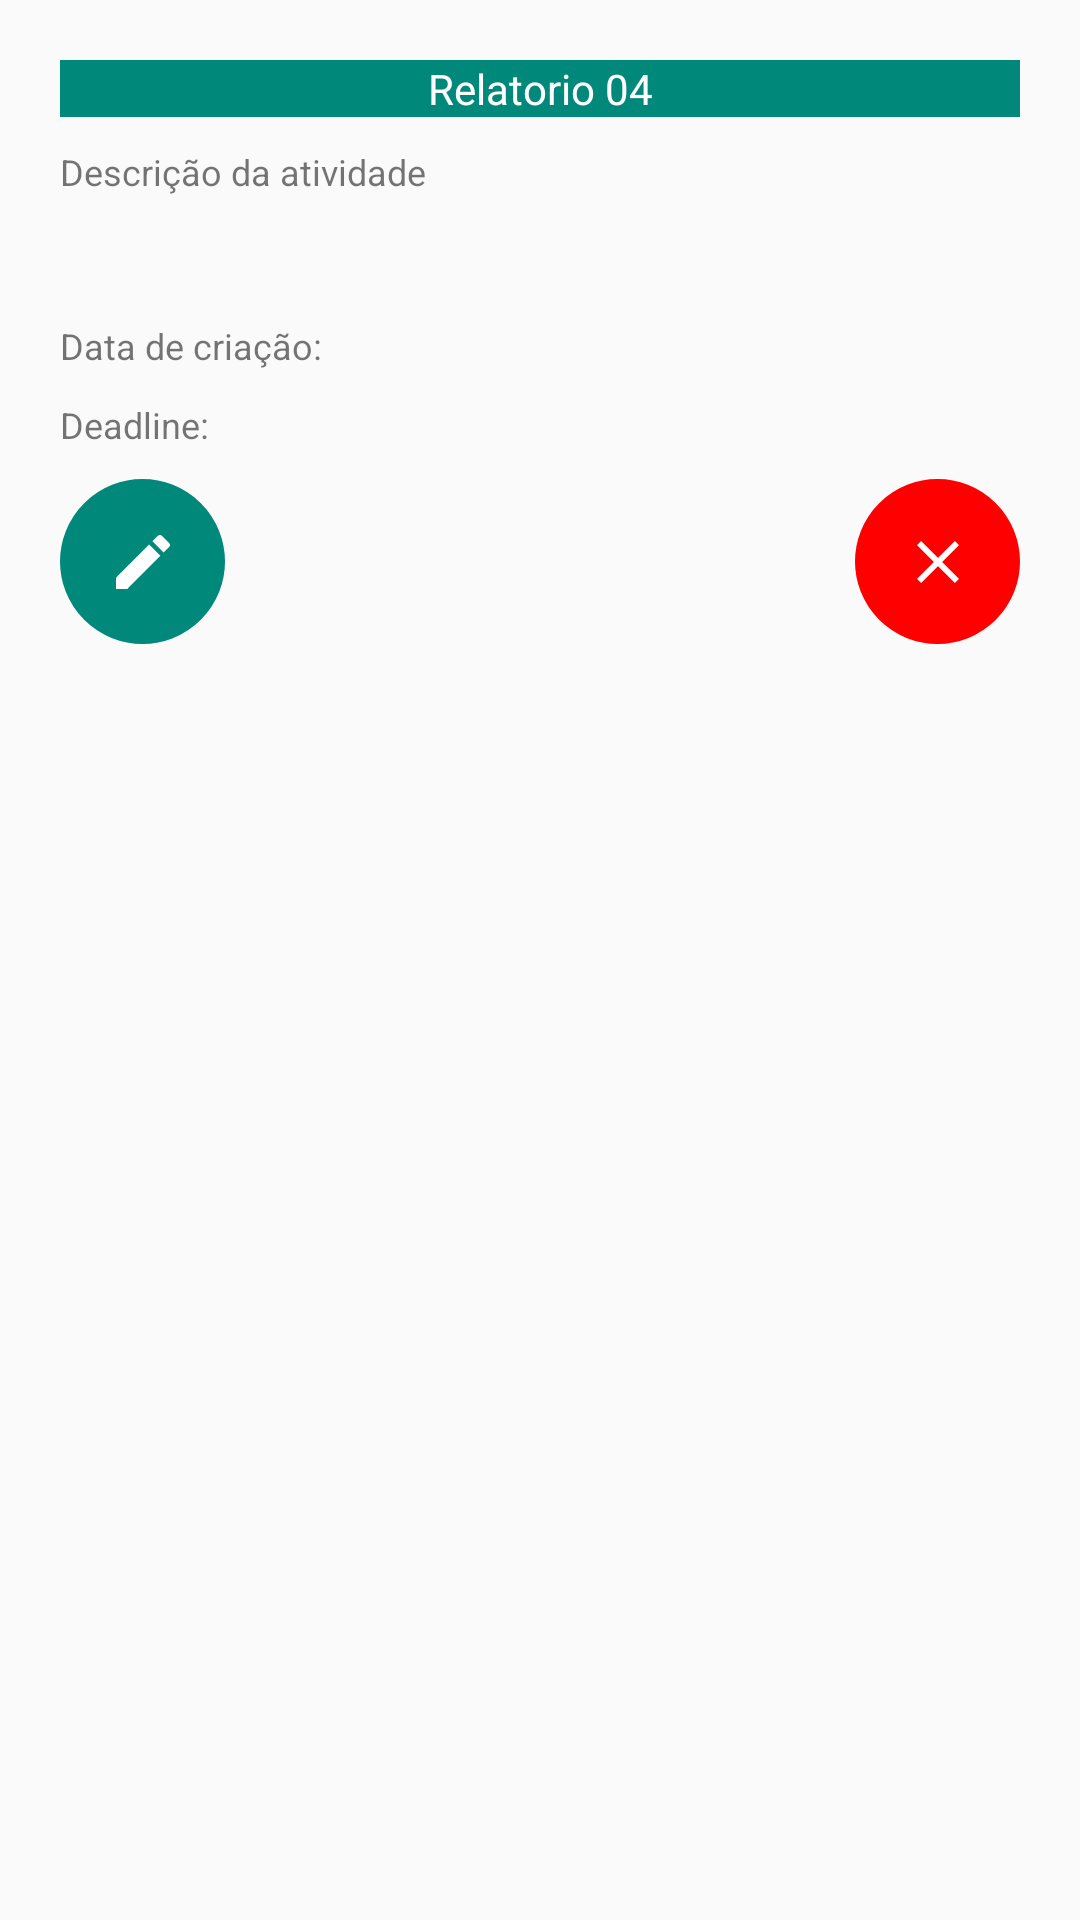

Icons on this 1080*1920 Android screen, each with the point to tap as [x,y]:
Delete acitivity Button: [937,561]
edit: [142,561]
